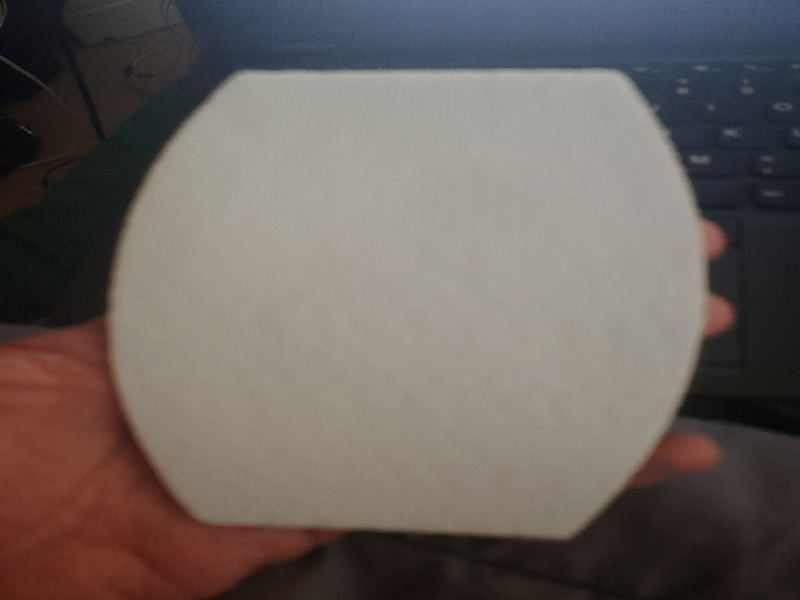Filter: (109, 69, 708, 541)
